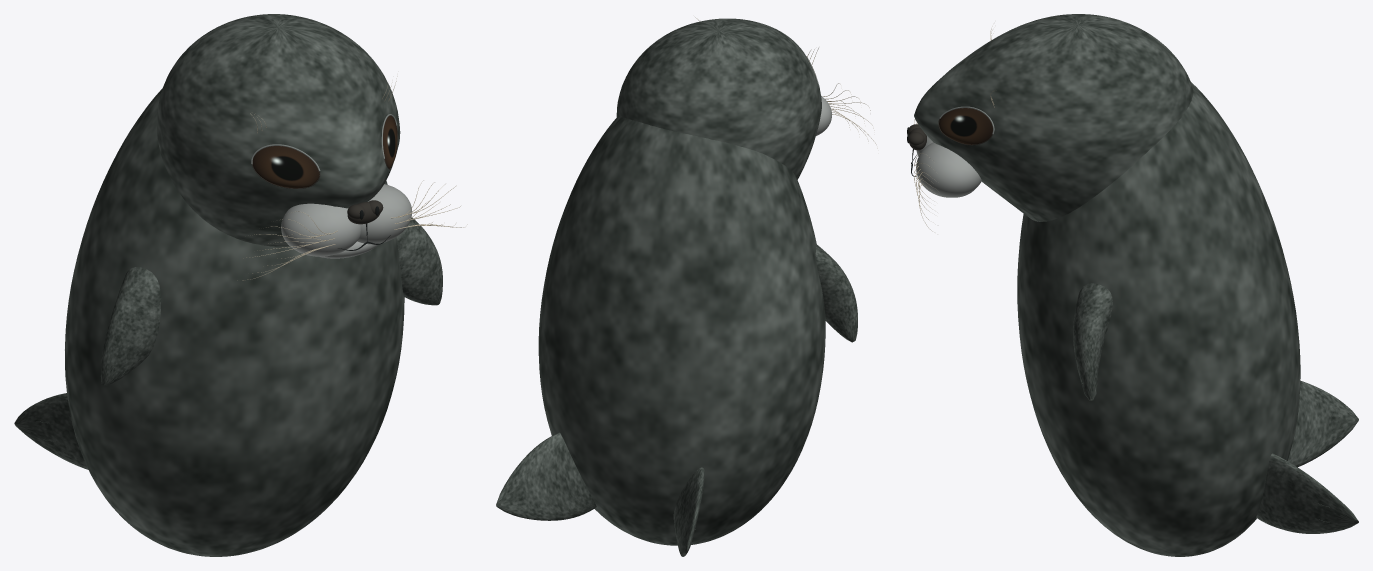
The model's file is seal-grey-adult.glb.
The picture shows the model from 3 angles, left to right: view 1: azimuth 30°, elevation 25°; view 2: azimuth 150°, elevation 25°; view 3: azimuth 270°, elevation 25°; orthographic projection. The views are drawn at different scales.
Visible parts, largest first — view 1: Body sculpted torpedo torso, Sculpted face and sensory whiskers, Webbed flipper (×3), Wet almond eye (×2); view 2: Body sculpted torpedo torso, Sculpted face and sensory whiskers, Webbed flipper (×3); view 3: Body sculpted torpedo torso, Sculpted face and sensory whiskers, Webbed flipper (×3), Wet almond eye.
Boxes of the visible parts, x1,y1,x2,y2 form: Body sculpted torpedo torso: [65, 88, 404, 556]; Sculpted face and sensory whiskers: [157, 14, 467, 280]; Webbed flipper (×3): [14, 217, 442, 469]; Wet almond eye (×2): [252, 115, 397, 188]; Body sculpted torpedo torso: [538, 117, 825, 545]; Sculpted face and sensory whiskers: [616, 17, 877, 179]; Webbed flipper (×3): [496, 244, 857, 556]; Body sculpted torpedo torso: [1017, 82, 1300, 556]; Sculpted face and sensory whiskers: [907, 14, 1193, 231]; Webbed flipper (×3): [1073, 283, 1358, 533]; Wet almond eye: [939, 108, 992, 144].
Bounding box in the file's own units: 1.88 × 2.94 × 2.32.
Materials: 7 (2 with a texture image).
